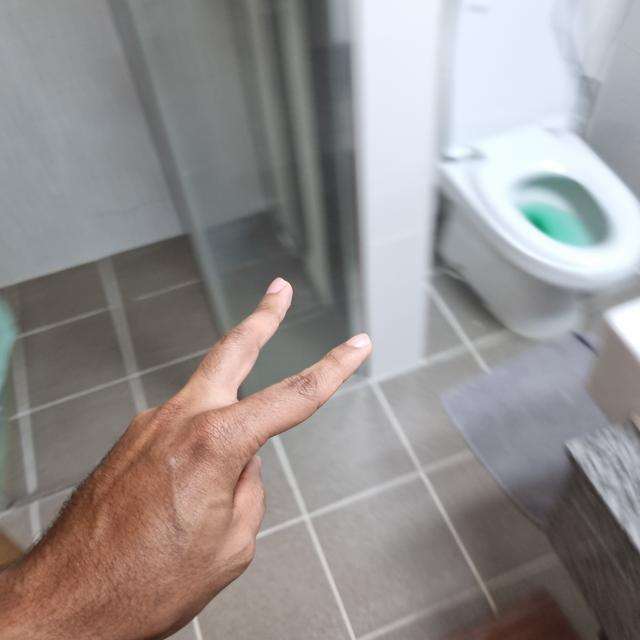Scissors: (7, 279, 372, 639)
